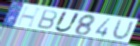4: (93, 18, 114, 39)
8: (74, 14, 97, 37)
B: (35, 9, 59, 31)
H: (15, 6, 44, 29)
U: (52, 10, 82, 33), (110, 19, 135, 42)
